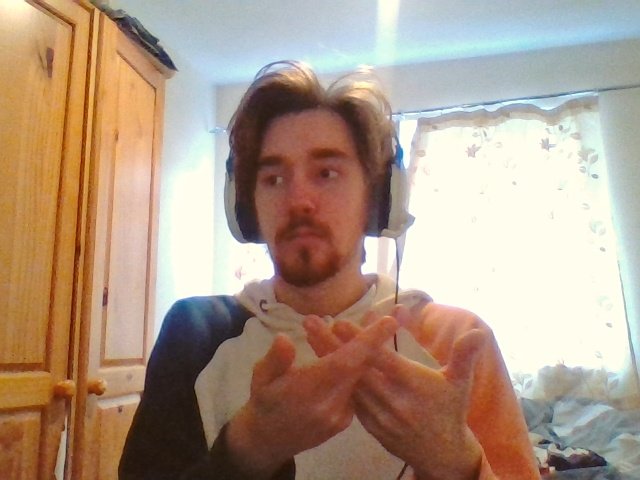how: (243, 305, 486, 446)
